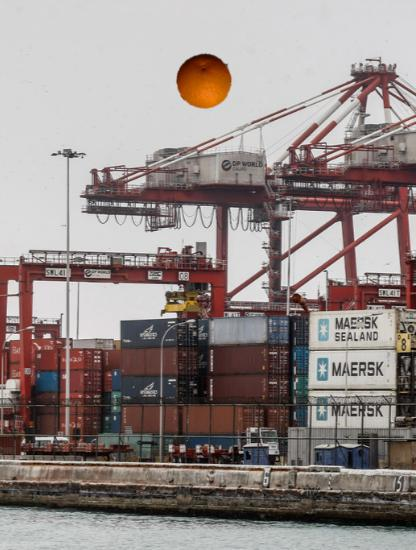Orange: (176, 52, 234, 110)
